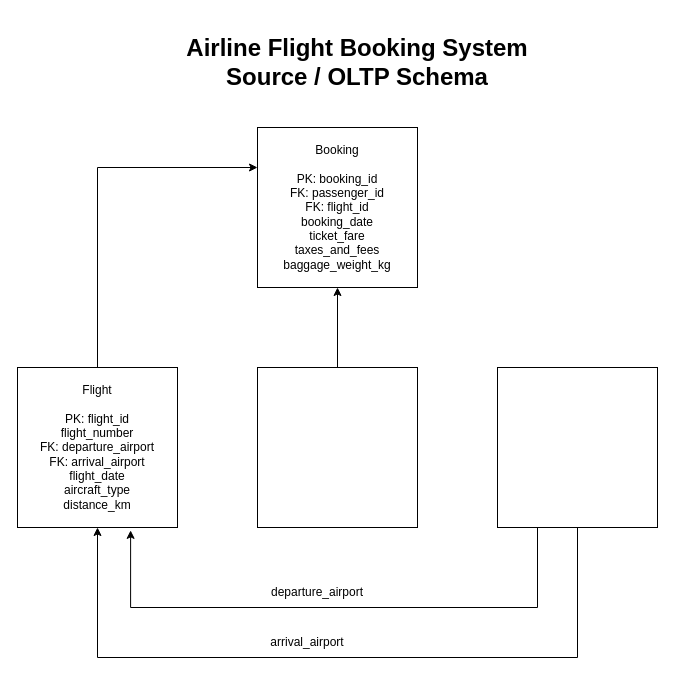
Image size: 675x683. Some labels were removed from this diagram. The shapes that lost their labels are listed below. From the top down, each one's box as (x1, y1, x2, y2) in pixels, then its label:
(256, 366, 418, 528): Passenger PK: passenger_id passenger_name gender nationality loyalty_tier
(496, 366, 658, 528): Airport PK: airport_code airport_name city country
